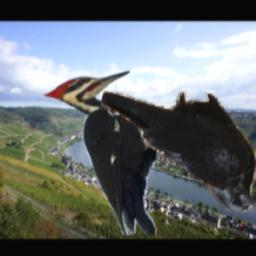Crow: (101, 91, 256, 212)
Woodpecker: (40, 70, 160, 236)
